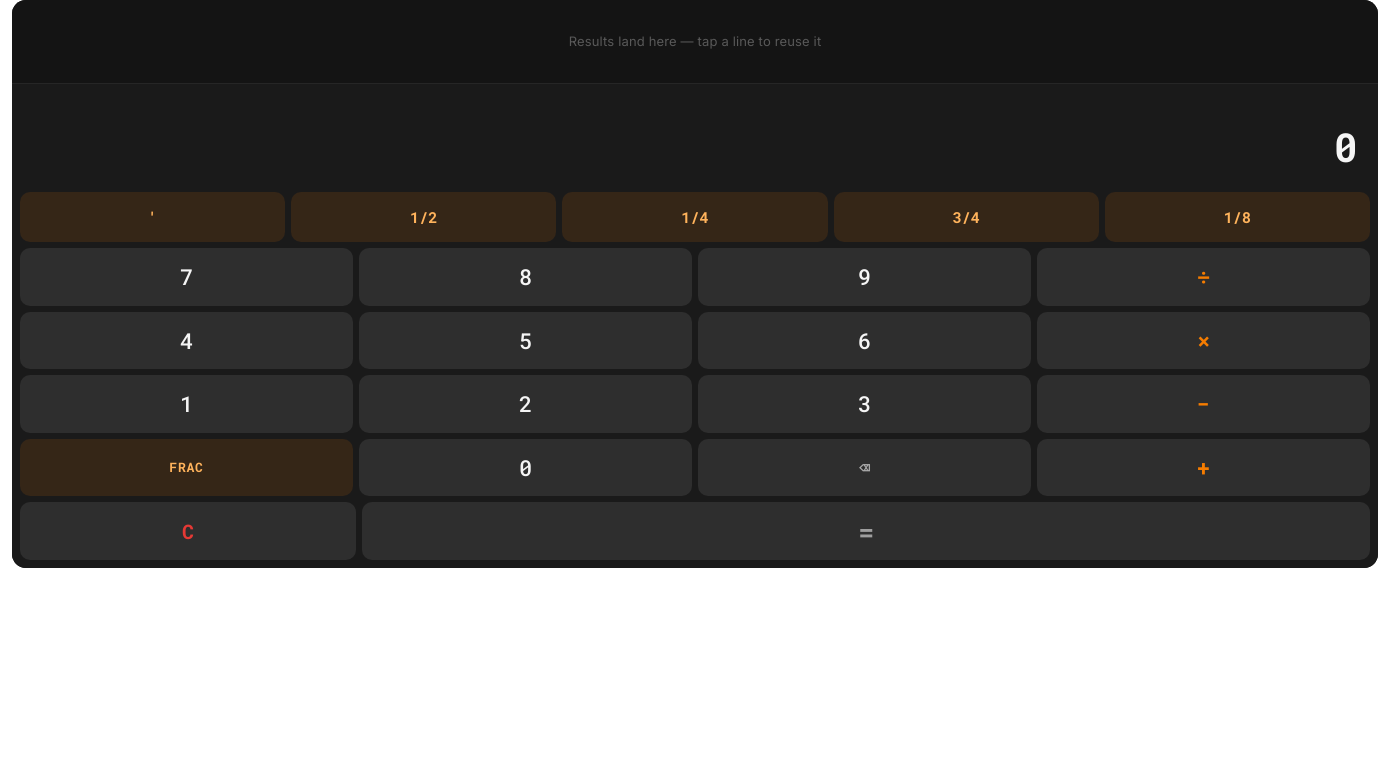
Test: TapeCalc UI › expression tape shows running expression
Click the button "1" at point(186, 404), box [20, 375, 353, 433]
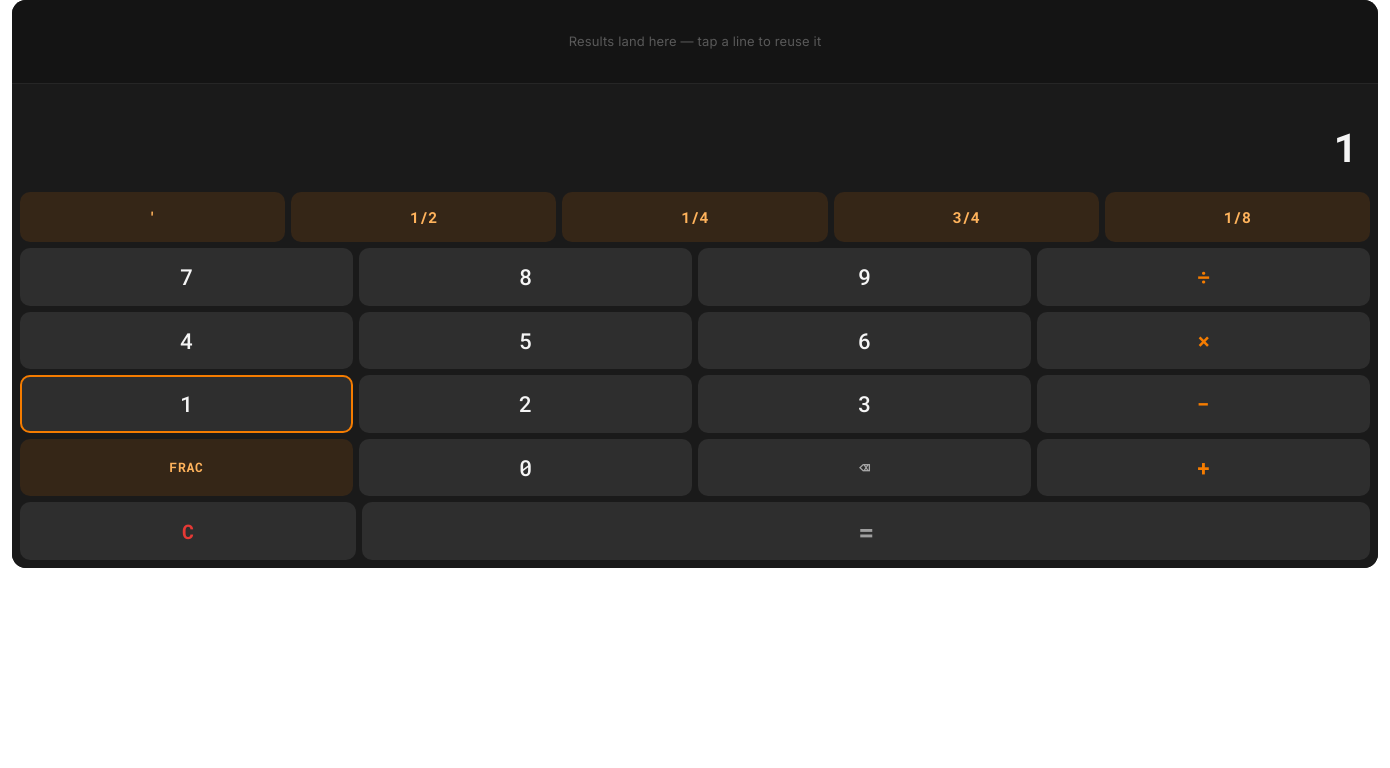
Click the button "0" at point(526, 468), box [359, 439, 692, 496]
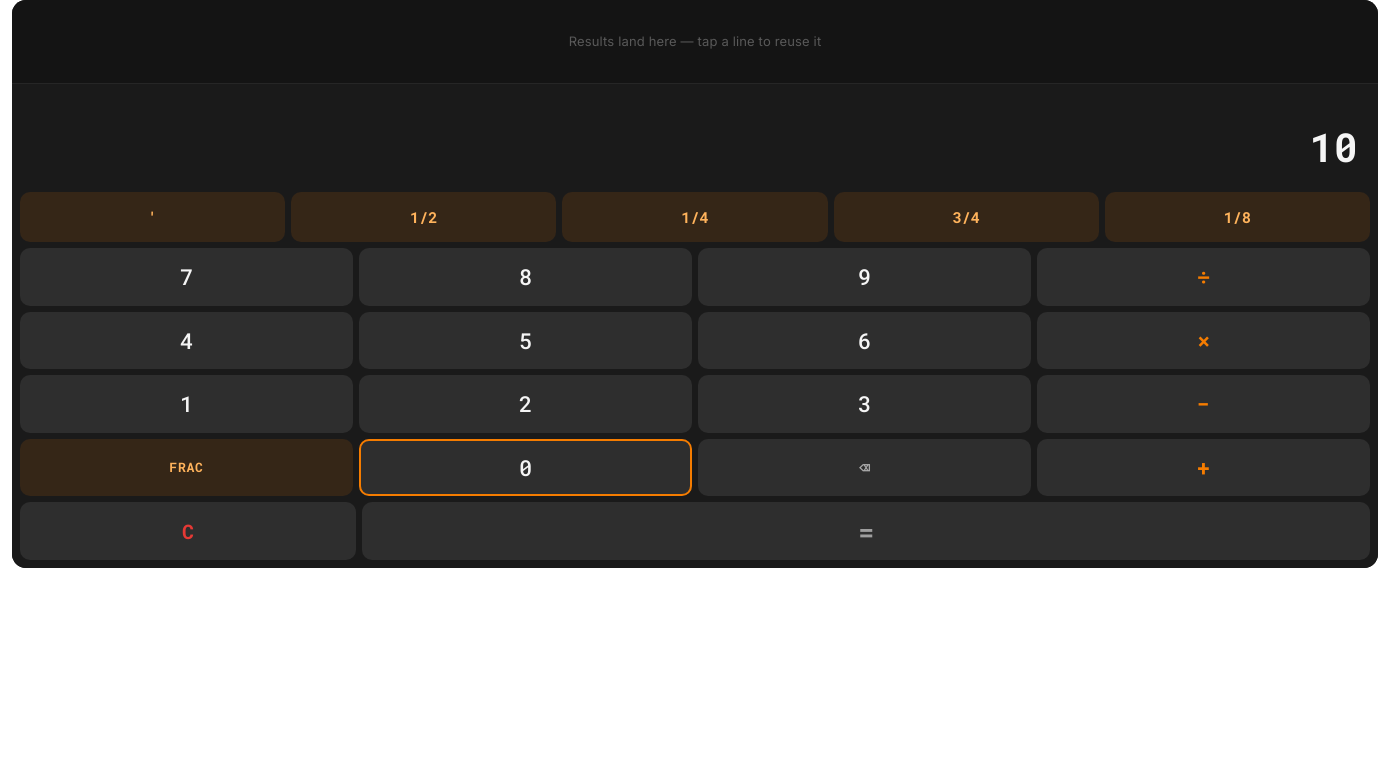
// tap operator → tape shows "10 +"
Click the button named "add" at point(1204, 468), box [1037, 439, 1370, 496]
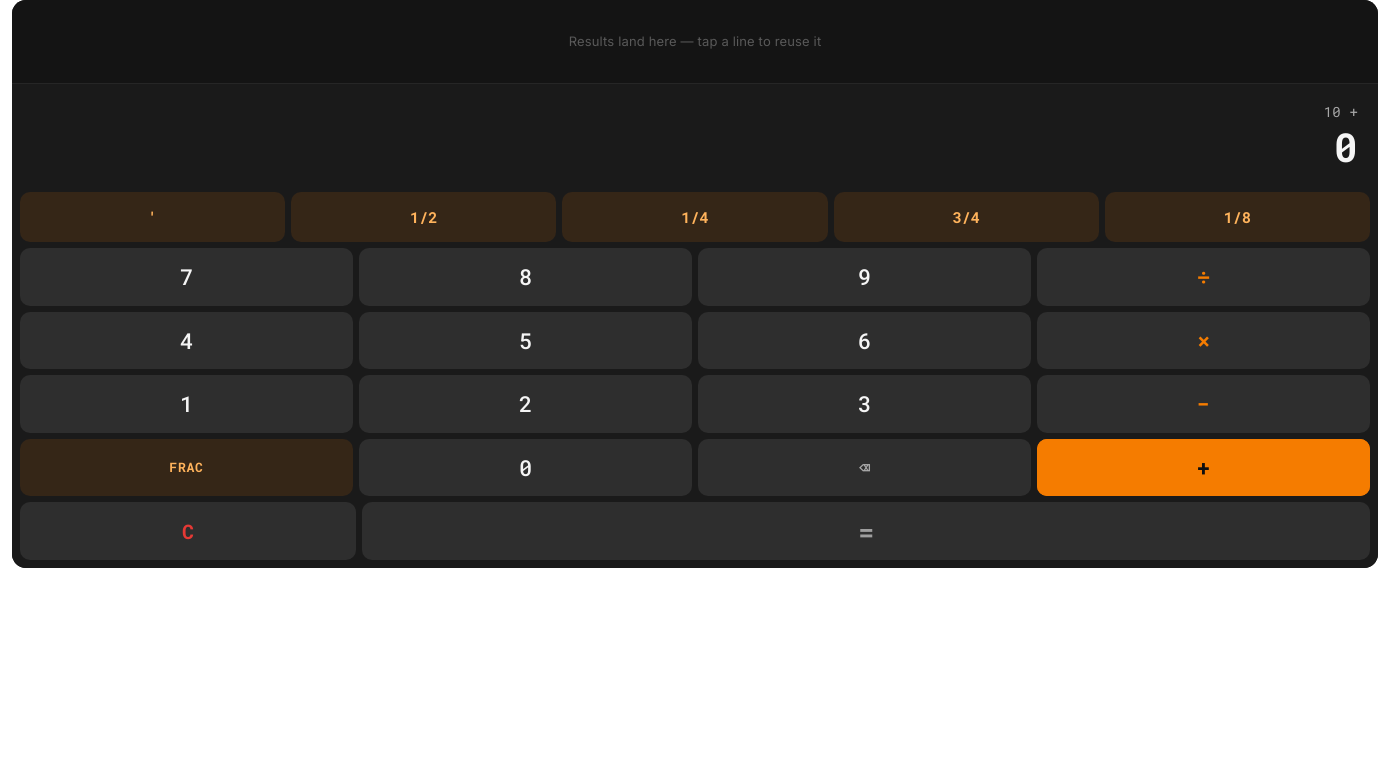
Check: the text with test id "expression-tape" reads "10 +", box [1324, 102, 1358, 121]
Click the button "5" at point(526, 340), box [359, 312, 692, 369]
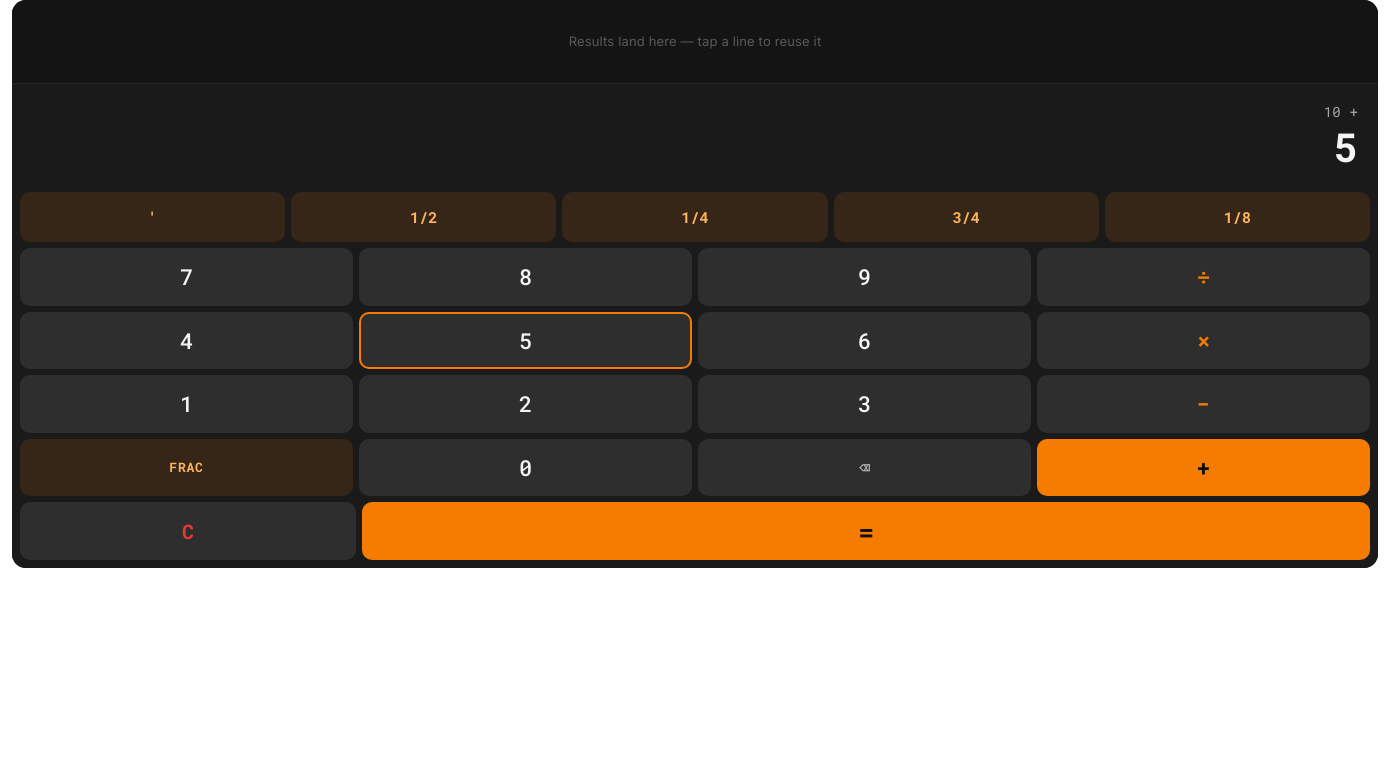
Click the button named "calculate" at point(866, 531), box [362, 502, 1370, 560]
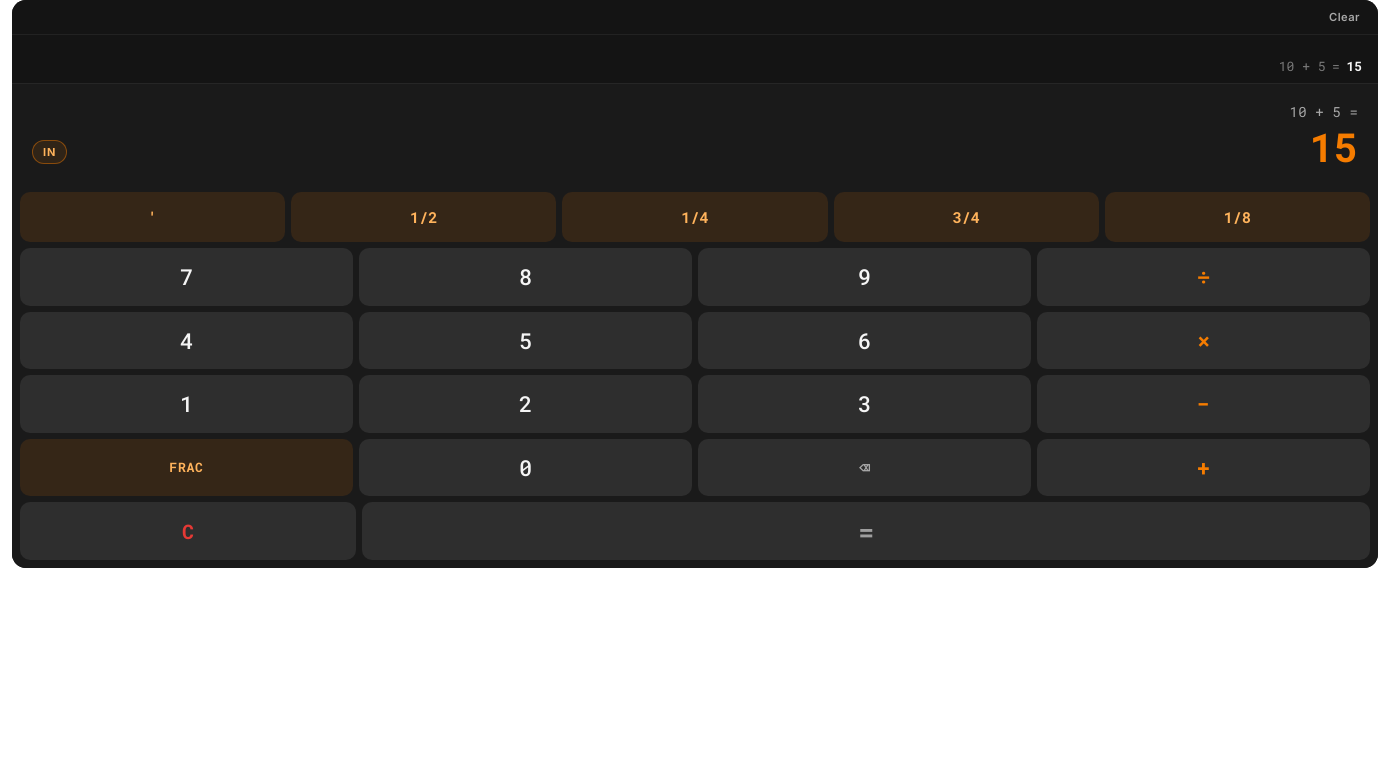
Check: the text with test id "expression-tape" reads "10 + 5 =", box [1290, 102, 1358, 121]
